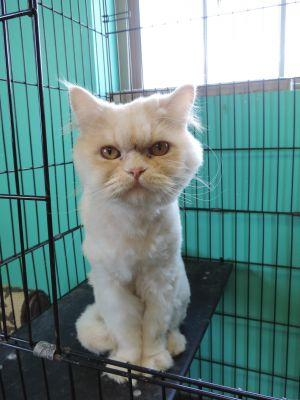persian: (63, 77, 207, 219)
